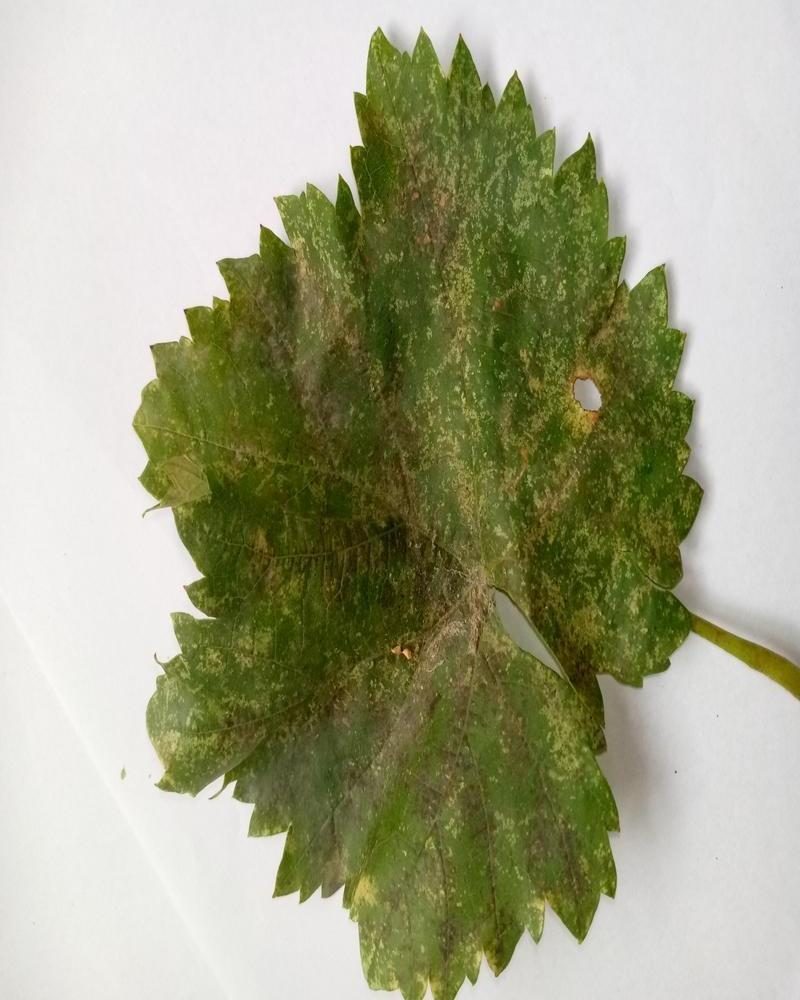Powdery-Mildew: (154, 399, 302, 708), (362, 416, 500, 746), (205, 210, 377, 407), (514, 282, 670, 497), (384, 69, 494, 284), (511, 719, 609, 902), (498, 168, 561, 231), (344, 871, 407, 934)
